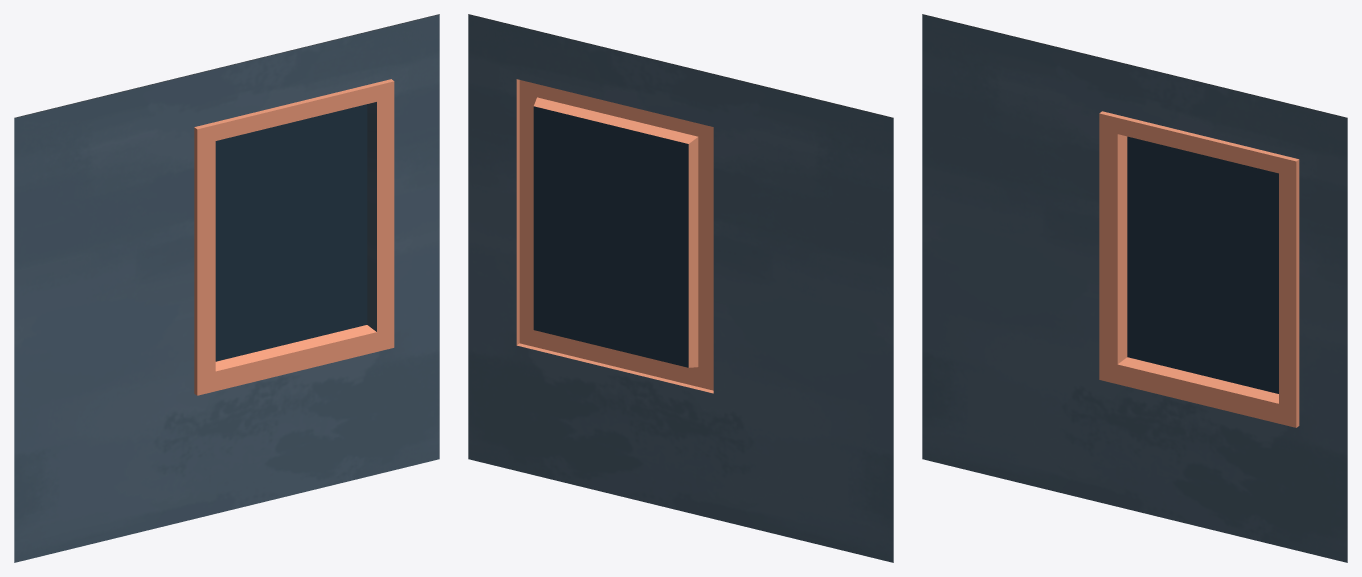
Rendered from m_face_block_one_window.FBX.
3 views of the same model, side by side, from view 1: azimuth 30°, elevation 25°; view 2: azimuth 150°, elevation 25°; view 3: azimuth 330°, elevation 25° (orthographic).
Parts seen in each view (by area): view 1: face_block_one_window; view 2: face_block_one_window; view 3: face_block_one_window.
Boxes of the visible parts, box(x1,y1,x2,y2) form: face_block_one_window: box(14, 14, 439, 562); face_block_one_window: box(468, 14, 893, 562); face_block_one_window: box(922, 14, 1347, 562).
Bounding box in the file's own units: 100 × 100 × 2.68.
